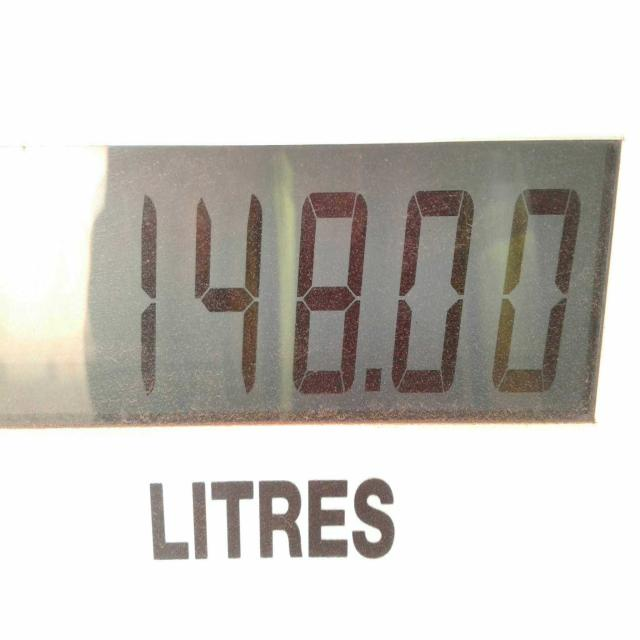.: (363, 356, 387, 420)
0: (488, 195, 577, 406), (390, 186, 472, 404)
1: (131, 197, 171, 410)
4: (188, 195, 266, 394)
8: (284, 186, 376, 400)
